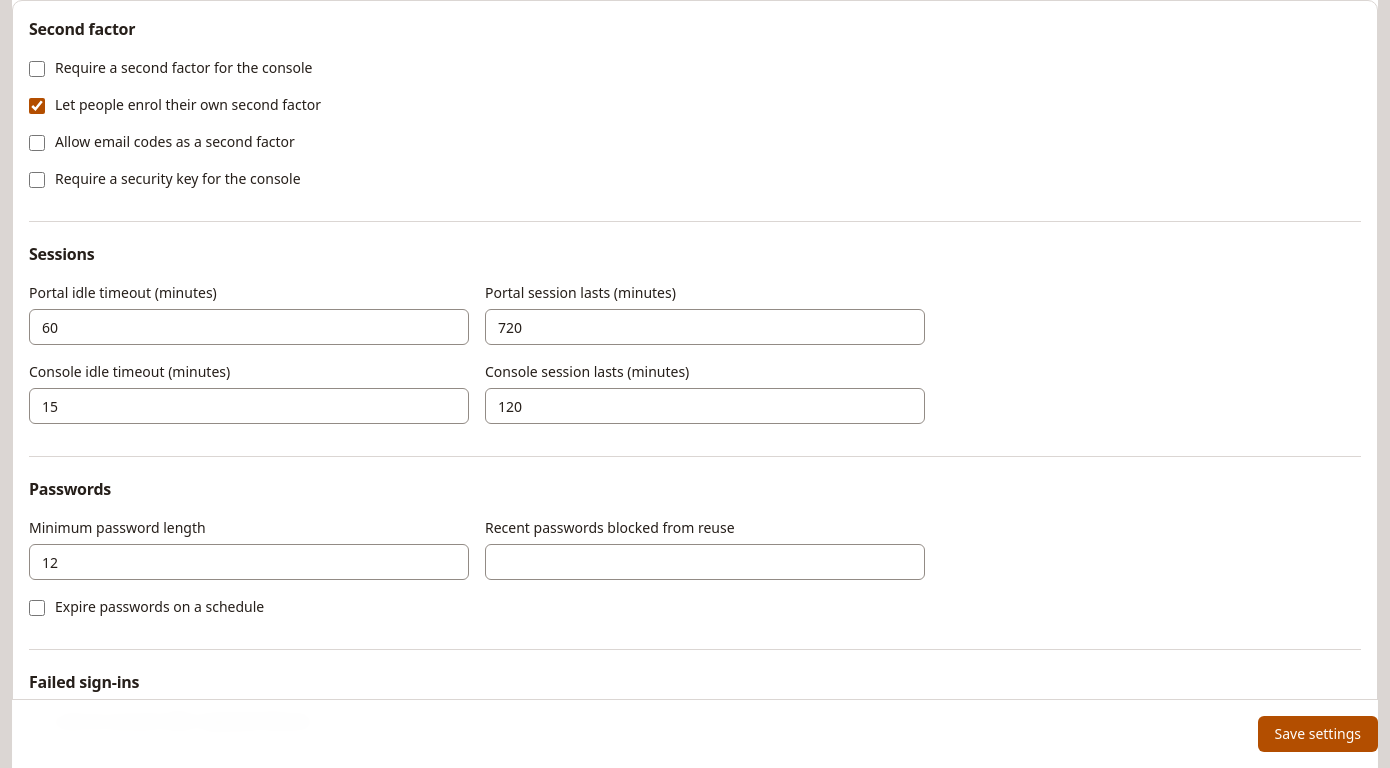
Test: SettingsSignInTab › shows the server refusal rather than paraphrasing it
This screenshot has width=1390, height=768.
Click the checkbox labelled "Require a second factor for the console".
click(37, 69)  # box [29,61,45,77]
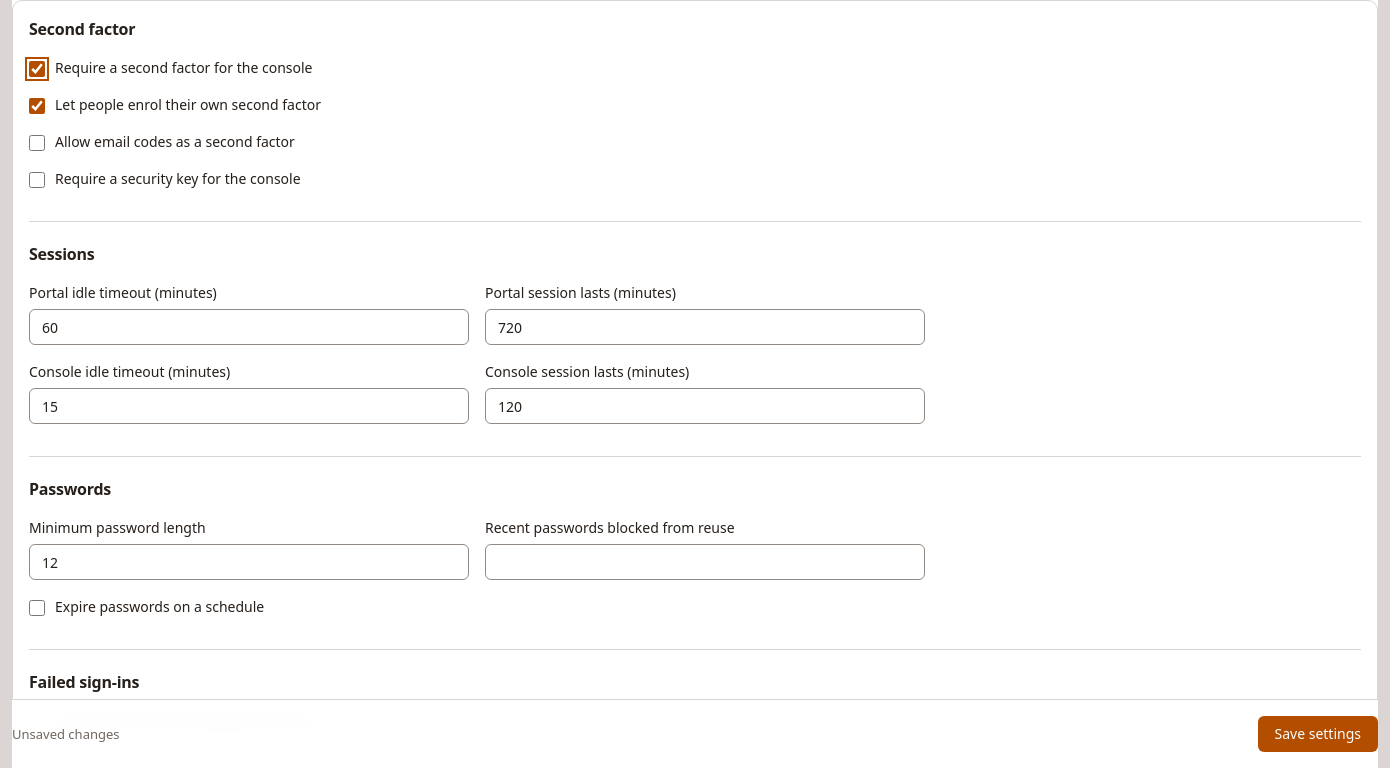
Click the button "Save settings".
click(1318, 734)  # box [1258,716,1378,752]
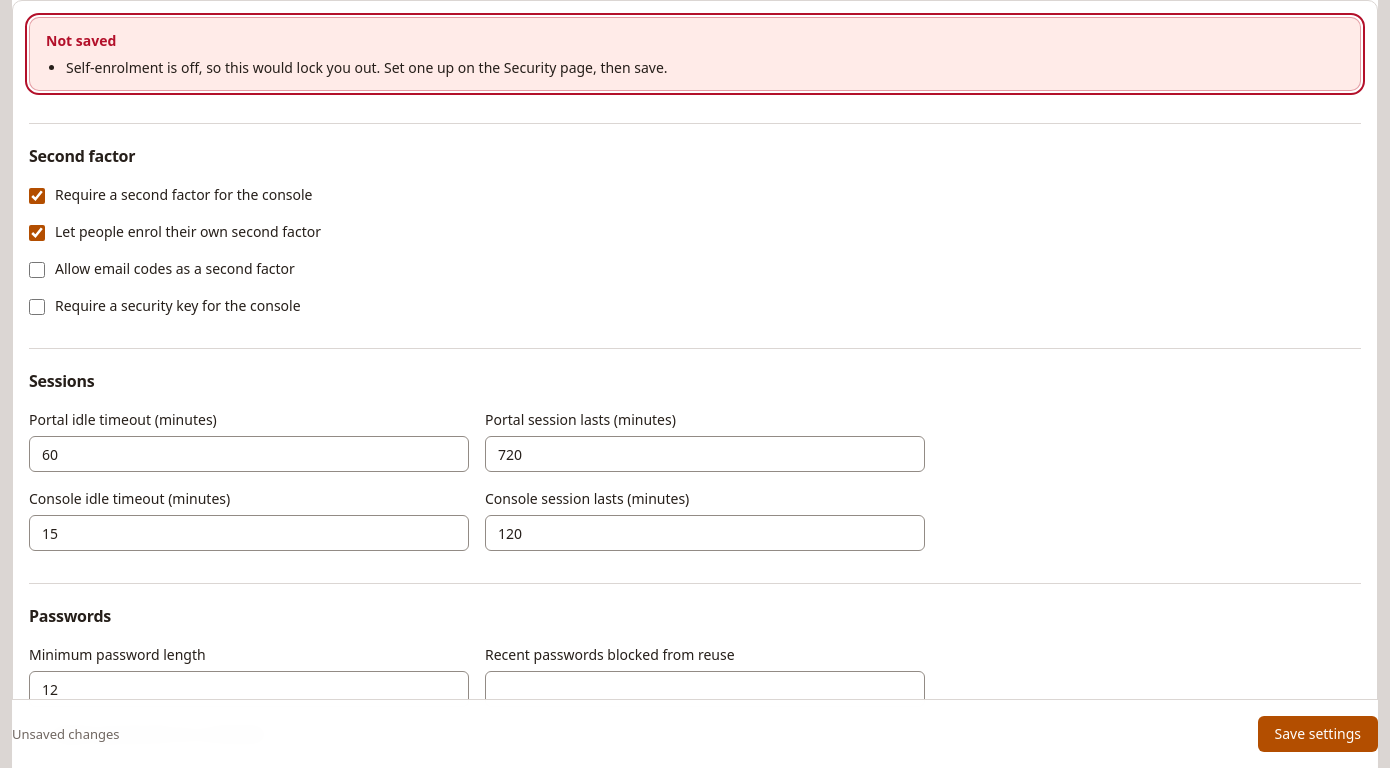
Expected: the list item "set one up on the security page" is shown, [66,58,668,77]
